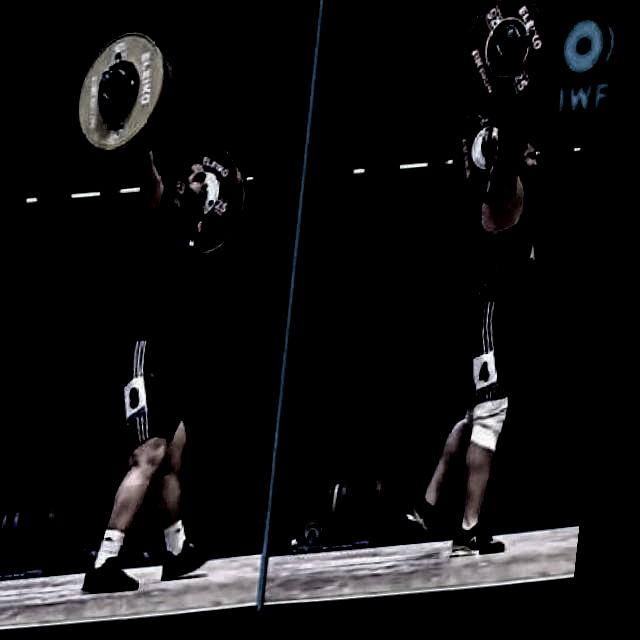barbell: (69, 27, 173, 163), (455, 1, 560, 125)
